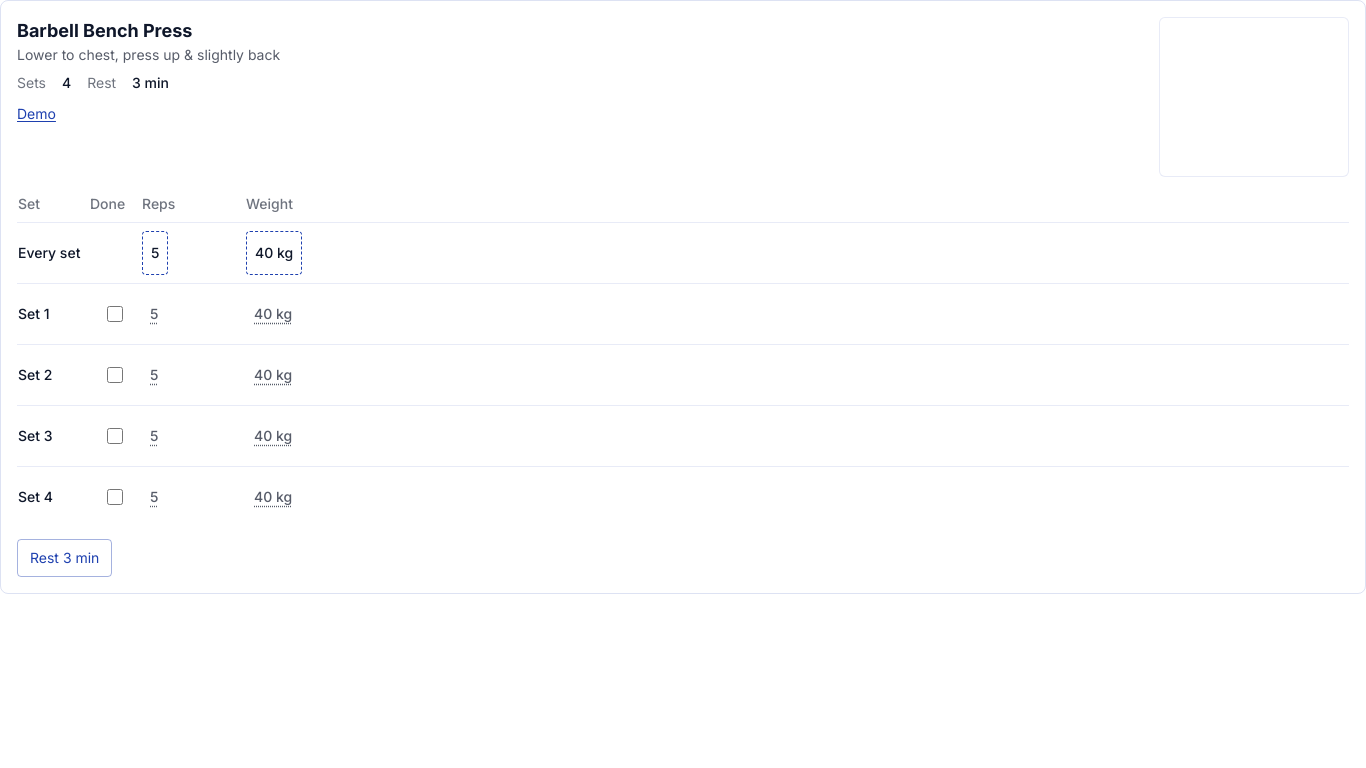
Test: WorkoutExercise › should tell the user which other days an adjustment reaches
Click the button named "change weight for set 2 of Barbell Bench Press". click: {"x": 273, "y": 375}
box: [246,353,300,397]
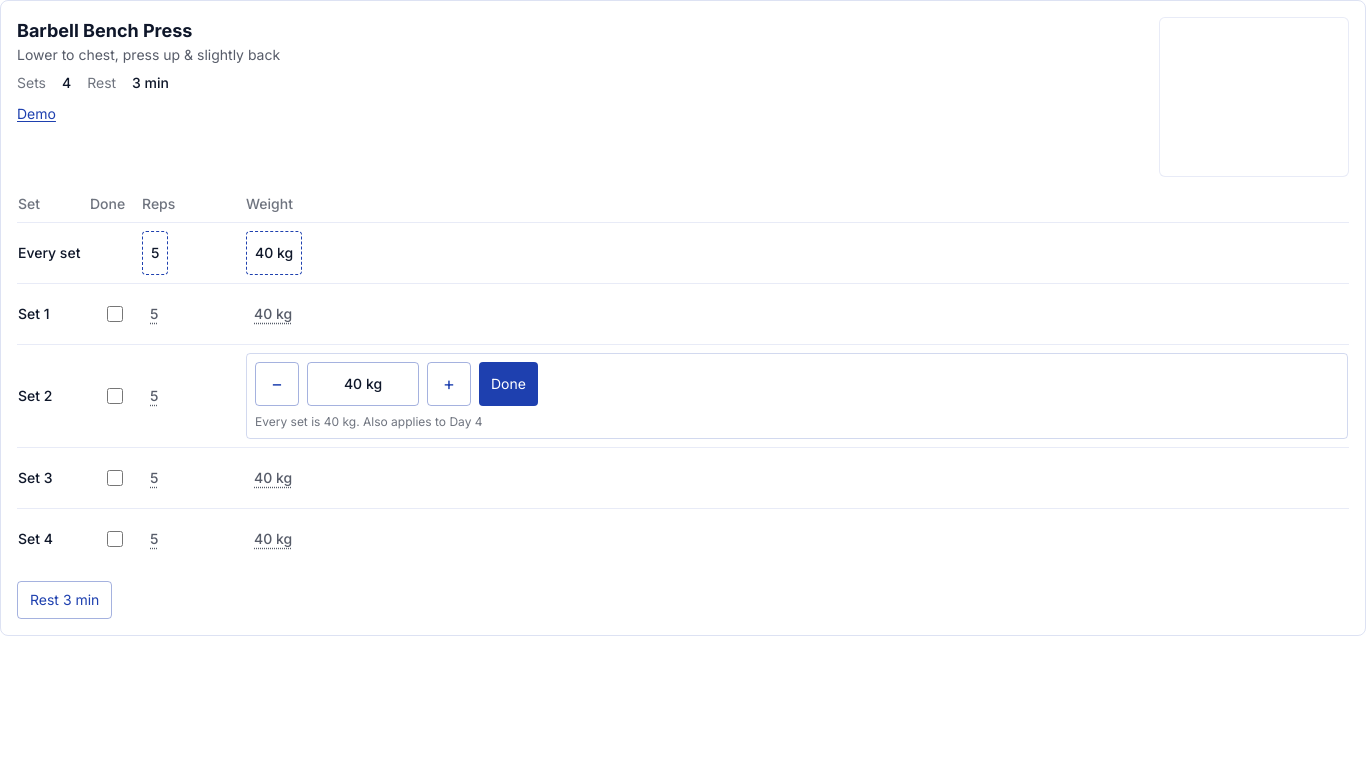
Now the text "Every set is 40 kg. Also applies to Day 4" is shown, box [255,414,482,429]
